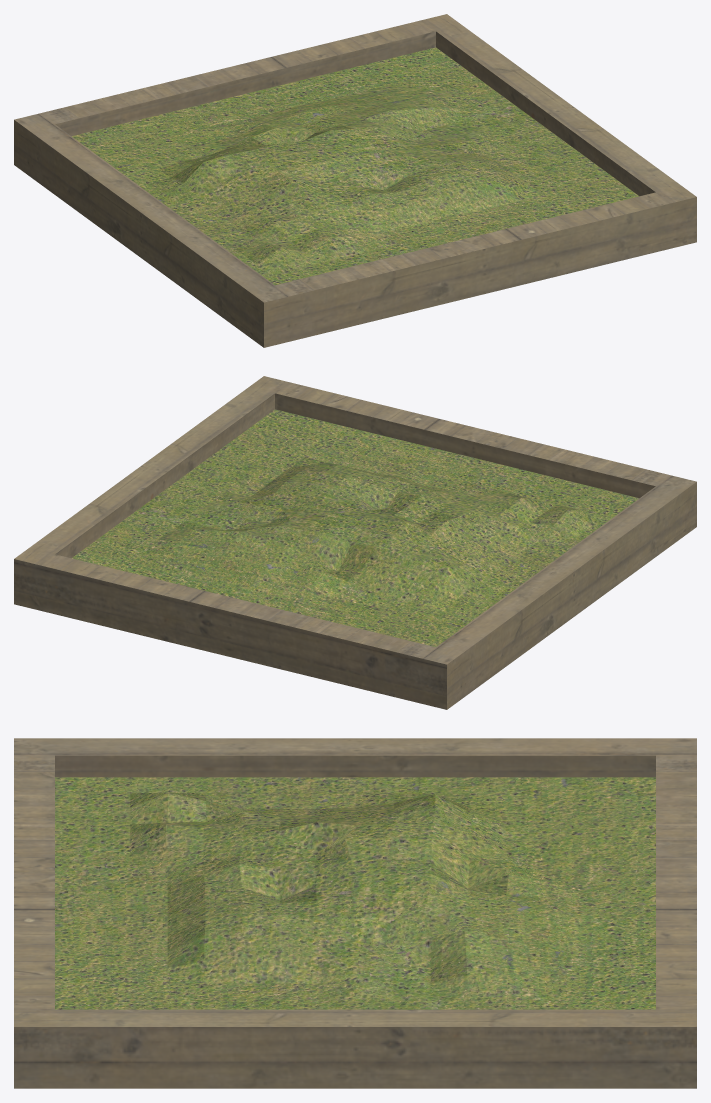
Rendered from SM_Grass.fbx.
3 renders of one model, top to bottom at view 1: azimuth 30°, elevation 25°; view 2: azimuth 150°, elevation 25°; view 3: azimuth 270°, elevation 25°, orthographic. The views are drawn at different scales.
Visible parts, largest first — view 1: pCube1; view 2: pCube1; view 3: pCube1.
Boxes of the visible parts, x1,y1,x2,y2 form: pCube1: (14, 14, 696, 347); pCube1: (14, 376, 696, 709); pCube1: (14, 738, 696, 1088).
Bounding box in the file's own units: 10 × 1.18 × 10.
